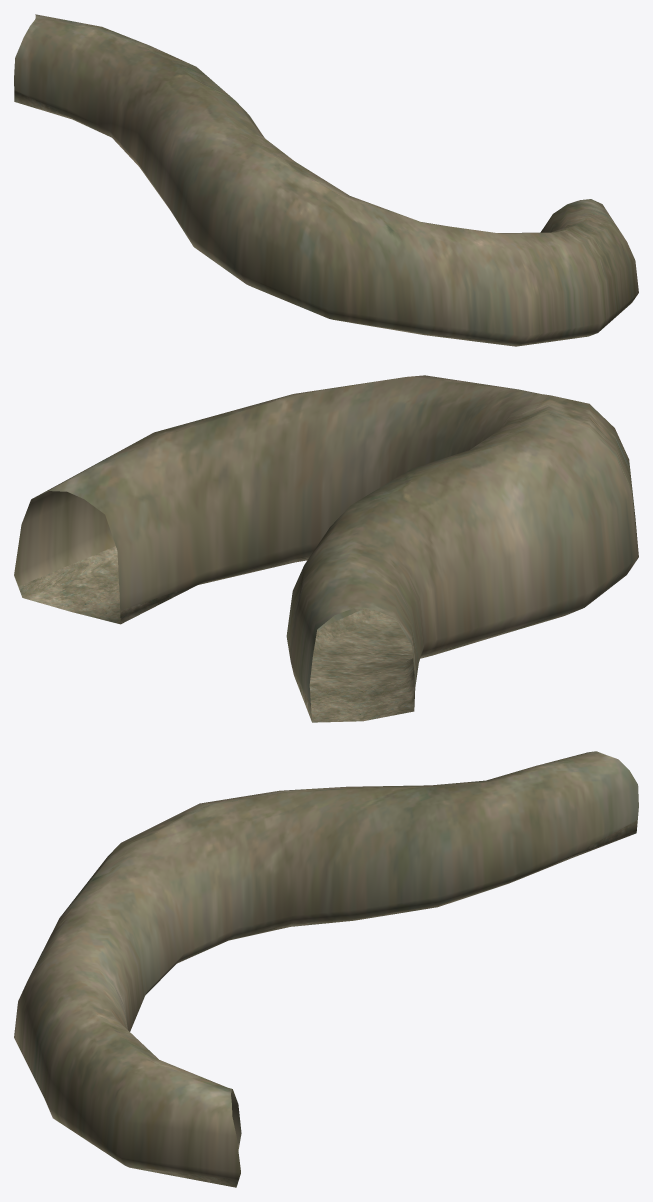
File: EKH_GROTTO_PS_GR_TUNNEL1.fbx
The picture shows the model from 3 angles, top to bottom: view 1: azimuth 30°, elevation 25°; view 2: azimuth 150°, elevation 25°; view 3: azimuth 270°, elevation 25°; orthographic projection. The views are drawn at different scales.
Parts seen in each view (by area): view 1: EKH_GROTTO_PS_GR_TUNNEL1; view 2: EKH_GROTTO_PS_GR_TUNNEL1; view 3: EKH_GROTTO_PS_GR_TUNNEL1.
Part boxes in pixels (box(x1,y1,x2,y2)): EKH_GROTTO_PS_GR_TUNNEL1: box(14, 14, 638, 346); EKH_GROTTO_PS_GR_TUNNEL1: box(14, 375, 638, 722); EKH_GROTTO_PS_GR_TUNNEL1: box(14, 751, 638, 1187).
Size of the model in its own units: 130754 by 64201 by 155791.
1 material, 1 textured.
